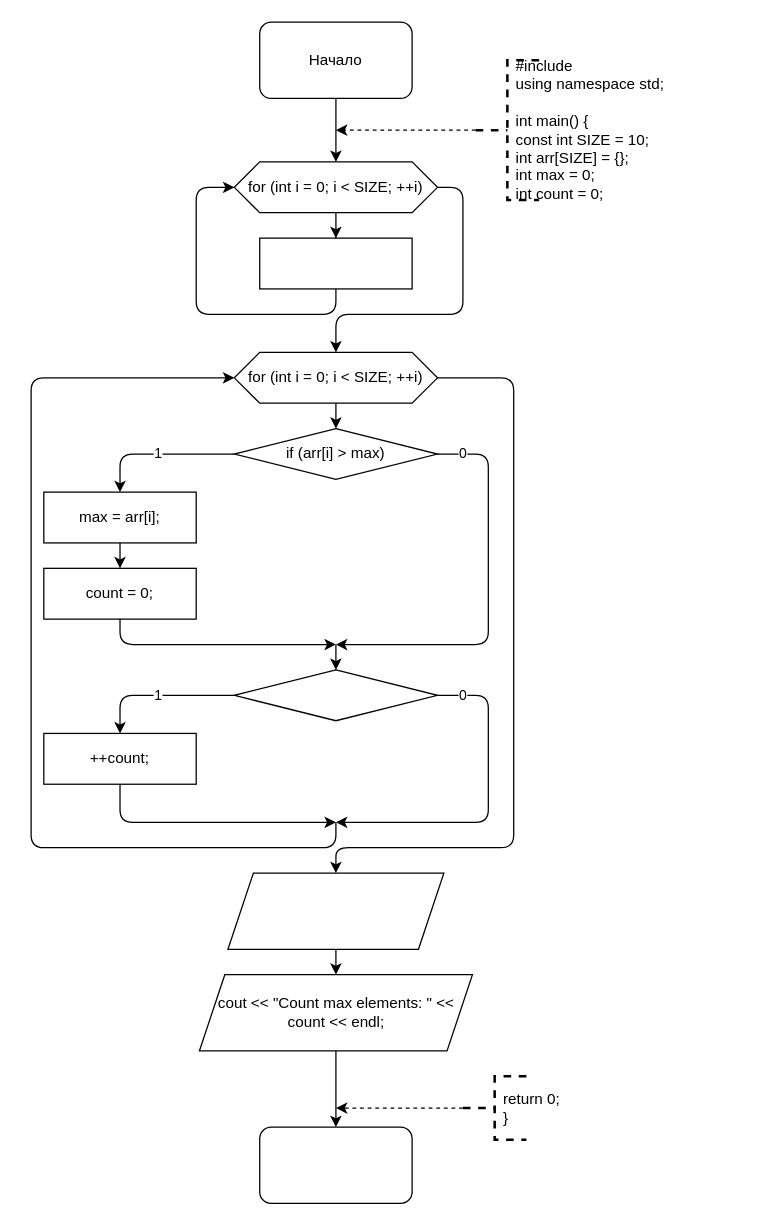
The diagram is 765 pixels wide and 1226 high, and some of its shapes have lost their labels. The centre of each missing label's shape, as x and y in pixels:
arr[i] = rand() % 100;: the point at 335,263
cout << "Max element: " << max << endl;: the point at 335,910
if (arr[i] == max): the point at 335,695
Конец: the point at 335,1164
